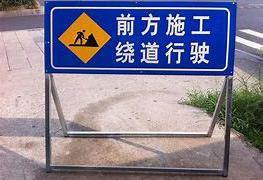sign: (48, 5, 230, 73)
